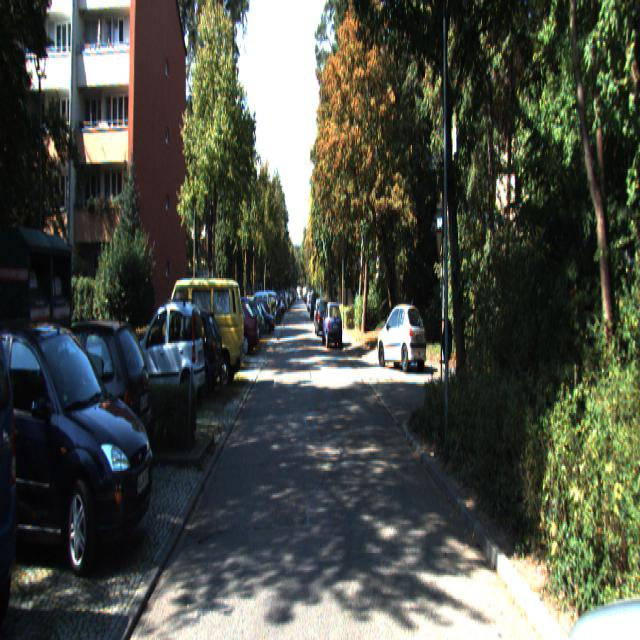Car: (0, 308, 157, 569), (10, 312, 157, 499), (126, 298, 207, 414), (165, 275, 245, 389), (147, 306, 223, 401), (376, 300, 427, 372), (213, 301, 260, 356), (322, 301, 343, 348)
